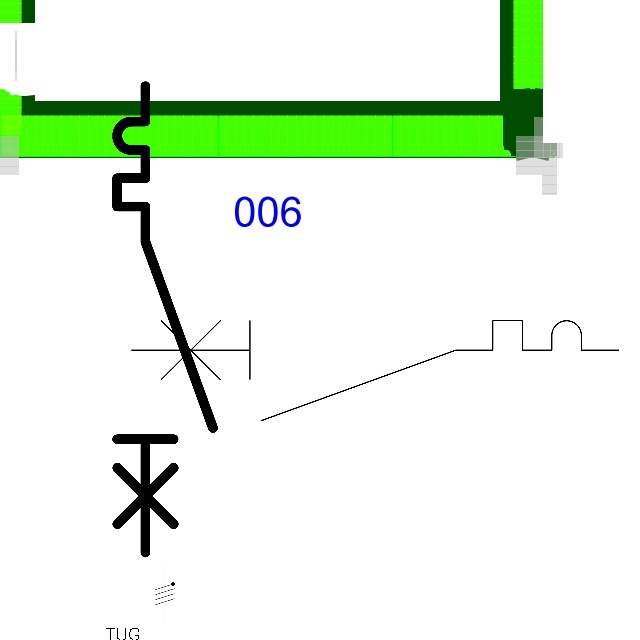interruptor_termomagnetico: (119, 308, 631, 433), (105, 74, 225, 564)
